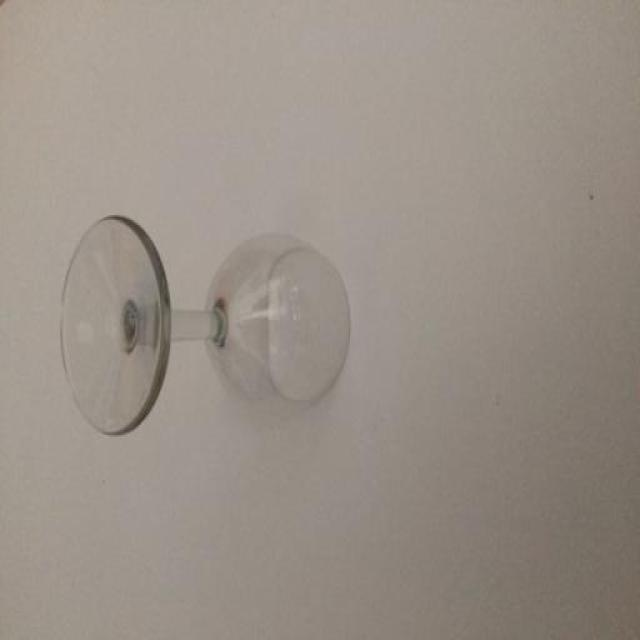Glass: (49, 155, 437, 446)
